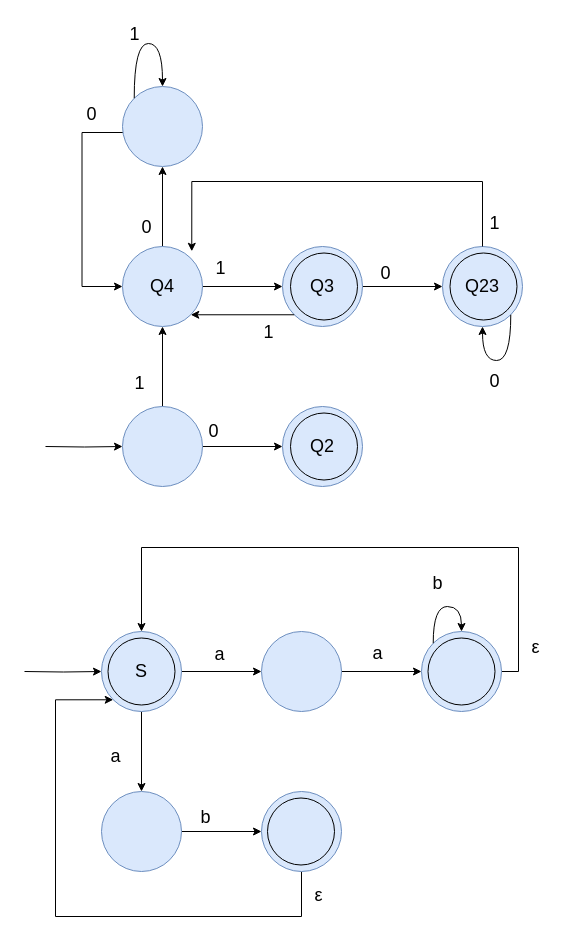
The diagram is 566 pixels wide and 942 high, and some of its shapes have lost their labels. The shapes that lost their labels are listed below. From the top down, each one's box as (x1, y1, x2, y2) in pixels, then its label:
(122, 86, 202, 166): Q5
(122, 406, 202, 486): Q1
